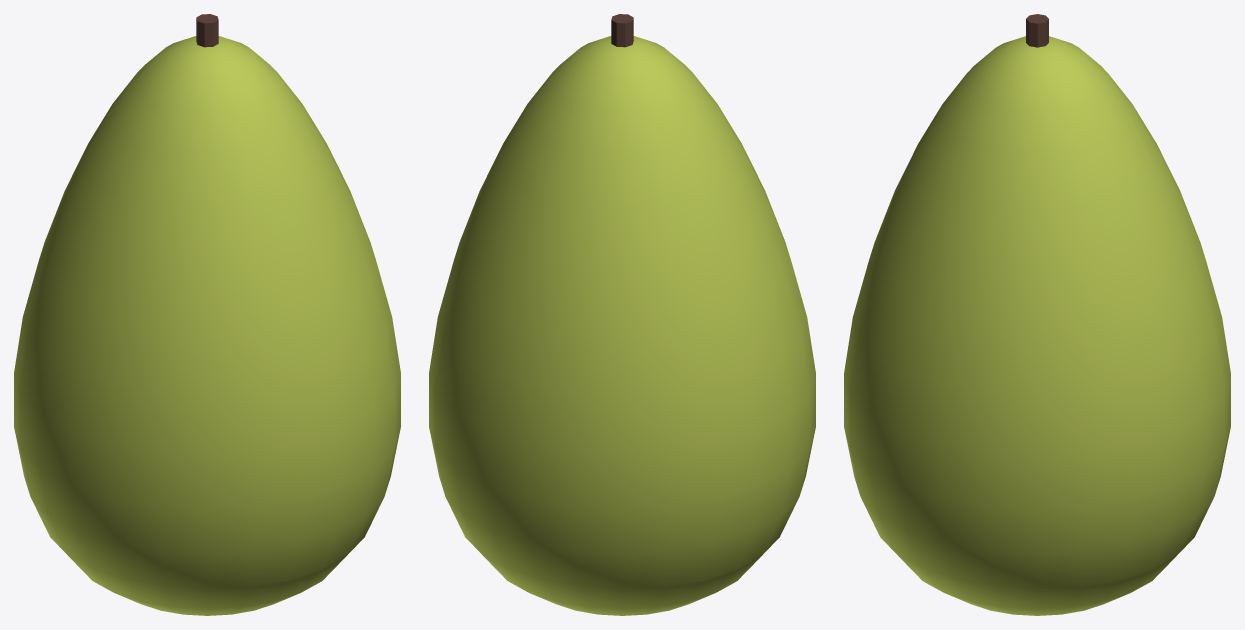
Rendered from Pear.fbx.
The picture shows the model from 3 angles, left to right: view 1: azimuth 30°, elevation 25°; view 2: azimuth 150°, elevation 25°; view 3: azimuth 270°, elevation 25°; orthographic projection.
Visible parts, largest first — view 1: Pear; view 2: Pear; view 3: Pear.
Boxes of the visible parts, x1,y1,x2,y2 form: Pear: (14, 14, 400, 615); Pear: (429, 14, 815, 615); Pear: (844, 14, 1230, 615).
Bounding box in the file's own units: 0.0671 × 0.1098 × 0.0671.
